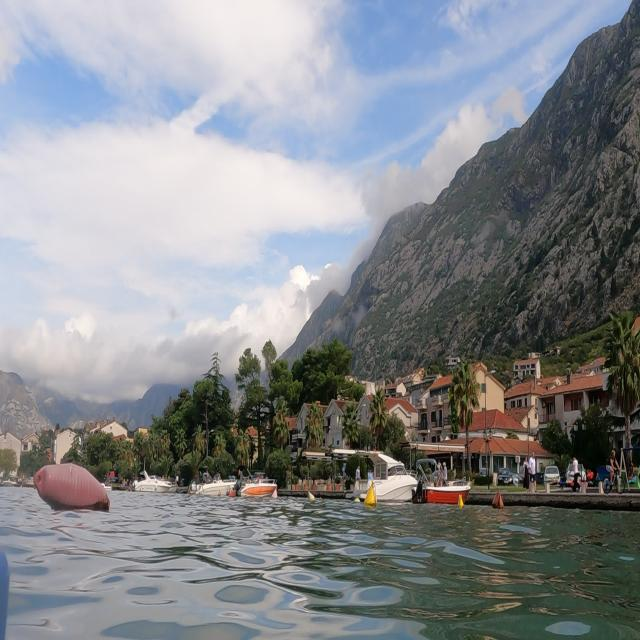boat: (339, 436, 422, 516), (418, 440, 480, 511), (186, 469, 242, 504), (128, 462, 178, 498), (237, 470, 282, 502)
buoy: (23, 450, 118, 527), (306, 484, 318, 506)
